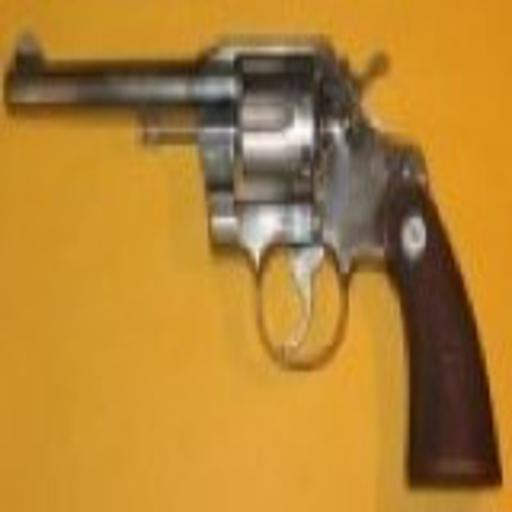Handgun: (5, 28, 504, 493)
